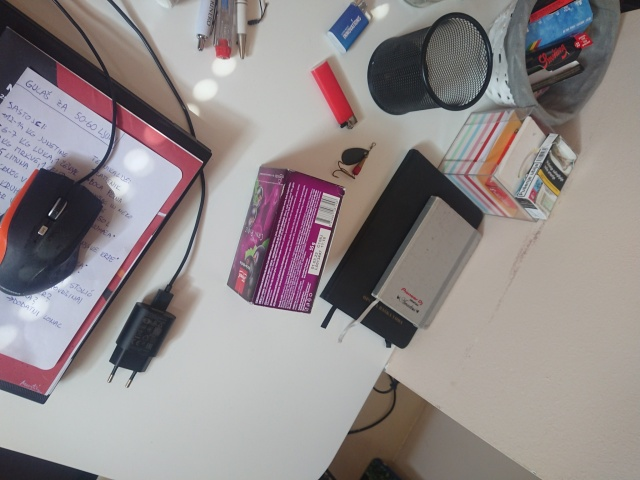Franck Black Currant Tea 60g: (225, 164, 348, 315)
